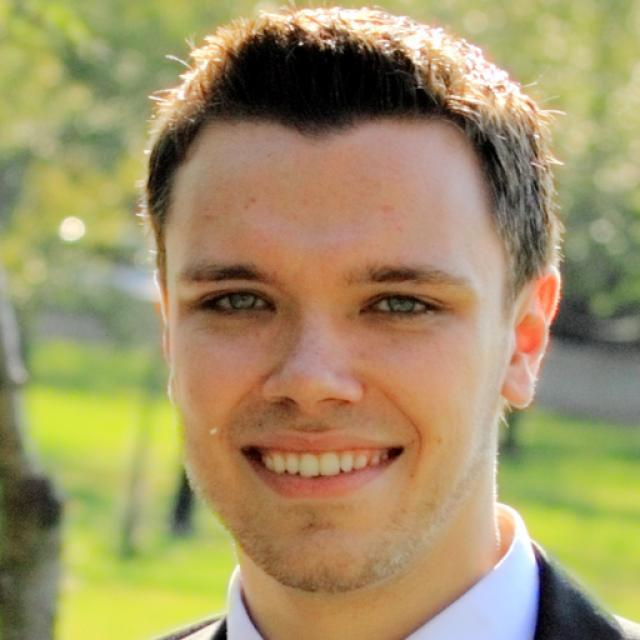happy: (165, 109, 504, 592)
